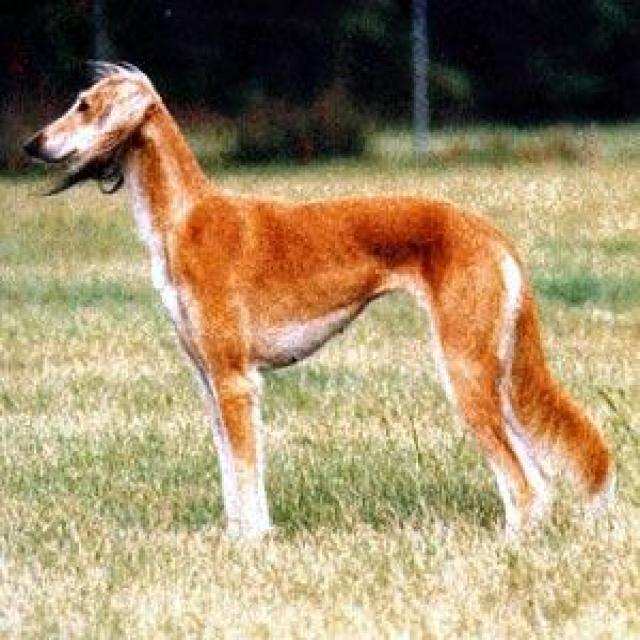saluki: (15, 63, 610, 546)
